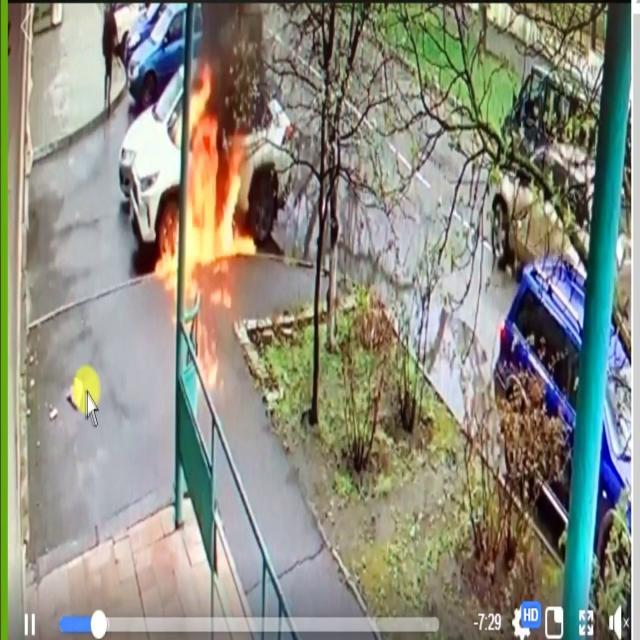Fire: (157, 59, 251, 304)
